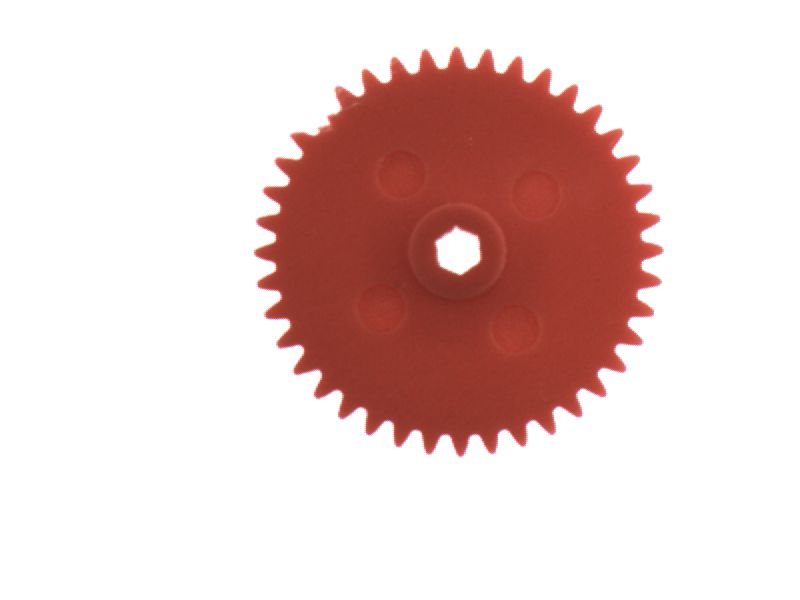defect_lack: (294, 86, 352, 146)
